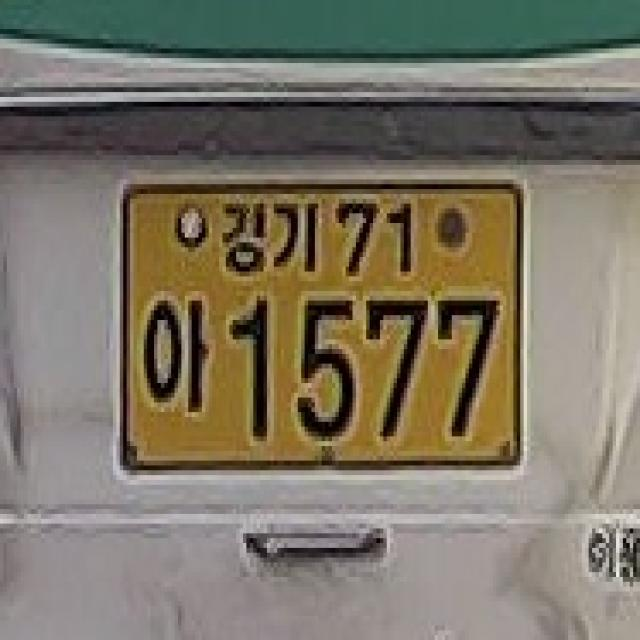plat: (119, 180, 524, 471)
